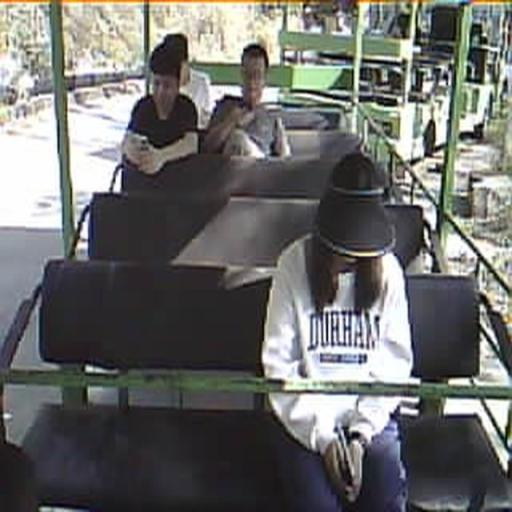persona: (260, 150, 416, 510), (120, 39, 203, 175), (205, 42, 292, 161), (165, 34, 216, 131)
